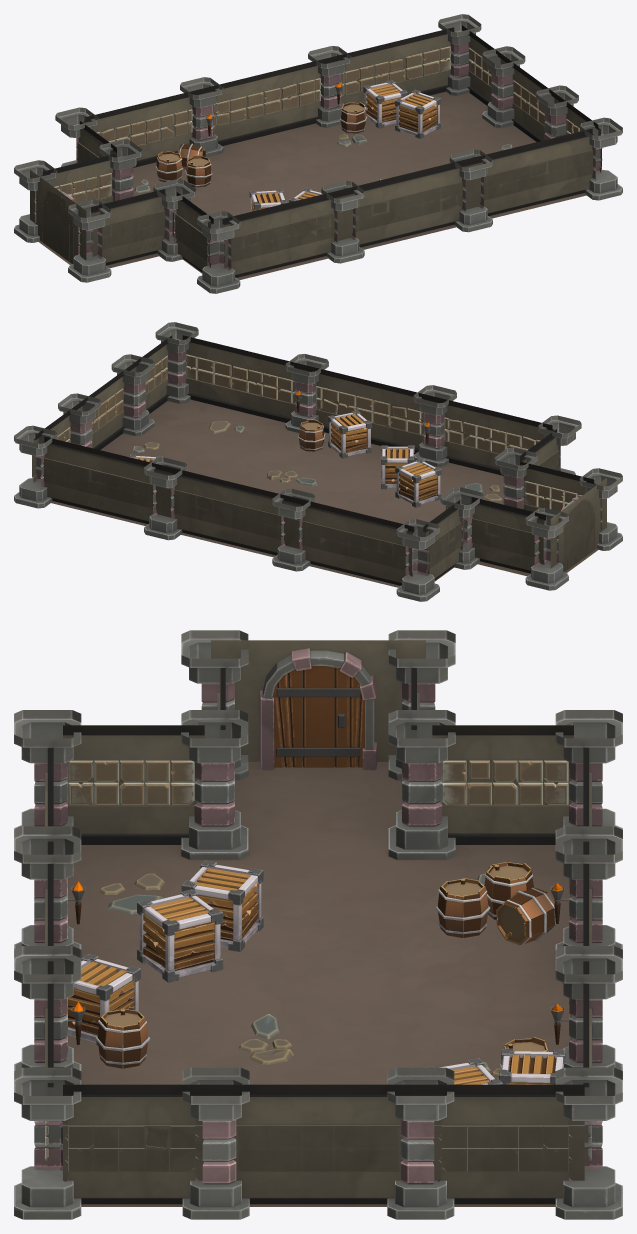
The model's file is Ready location.fbx.
The picture shows the model from 3 angles, top to bottom: view 1: azimuth 30°, elevation 25°; view 2: azimuth 150°, elevation 25°; view 3: azimuth 270°, elevation 25°; orthographic projection. The views are drawn at different scales.
Visible parts, largest first — view 1: Plane.009, Plane.011, Cube.001, Plane.001, Cube.002, wood boards, boards for barrels, basl, metal, metal base, stone; view 2: Plane.009, Plane.011, Cube.001, Plane.001, Cube.002, wood boards, basl, stone, metal, boards for barrels; view 3: Plane.011, Plane.009, Cube.001, Cube.002, Plane.001, wood boards, basl, Plane.021, boards for barrels, Plane.020, metal, stone (+4 smaller).
Boxes of the visible parts, x1,y1,x2,y2 form: Plane.009: (30,25,601,277); Plane.011: (37,91,587,280); Cube.001: (14,14,622,293); Plane.001: (54,46,580,203); Cube.002: (34,42,602,270); wood boards: (251,84,437,211); boards for barrels: (156,102,366,187); basl: (250,82,439,211); metal: (249,80,441,210); metal base: (155,107,367,186); stone: (133,134,512,193); Plane.009: (32,335,606,585); Plane.011: (50,399,599,587); Cube.001: (14,322,622,601); Plane.001: (56,354,582,511); Cube.002: (35,350,602,578); wood boards: (135,414,437,500); basl: (133,412,440,504); stone: (132,421,502,501); metal: (129,410,441,507); boards for barrels: (299,419,324,451); Plane.011: (68,762,568,1206); Plane.009: (45,640,591,1204); Cube.001: (14,630,622,1219); Cube.002: (34,682,602,1184); Plane.001: (45,760,591,1170); wood boards: (68,868,555,1084); basl: (68,864,563,1084); Plane.021: (272,666,364,767); boards for barrels: (97,862,554,1068); Plane.020: (259,648,377,770); metal: (81,860,565,1084); stone: (99,865,500,1077).
Size of the model in its own units: 1713 by 214 by 947.
